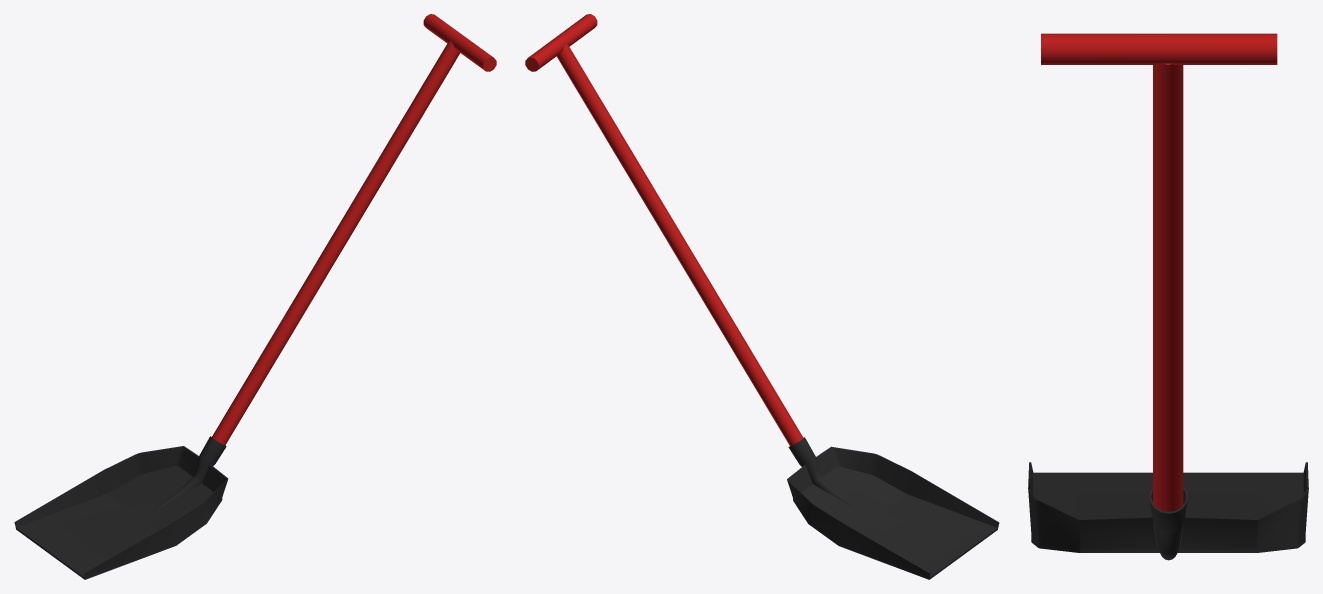
The picture shows the model from 3 angles, left to right: view 1: azimuth 30°, elevation 25°; view 2: azimuth 150°, elevation 25°; view 3: azimuth 270°, elevation 25°; orthographic projection. The views are drawn at different scales.
Parts seen in each view (by area): view 1: Spoon_4, Handle_0, Connection_2; view 2: Spoon_4, Handle_0, Connection_2; view 3: Handle_0, Spoon_4, Connection_2.
Part boxes in pixels (bbox=[...]): Spoon_4: bbox=[14, 446, 228, 579]; Handle_0: bbox=[211, 14, 496, 445]; Connection_2: bbox=[153, 436, 226, 510]; Spoon_4: bbox=[787, 446, 999, 579]; Handle_0: bbox=[525, 14, 803, 446]; Connection_2: bbox=[788, 437, 860, 510]; Handle_0: bbox=[1041, 33, 1277, 511]; Spoon_4: bbox=[1028, 462, 1308, 552]; Connection_2: bbox=[1149, 486, 1187, 560].
Size of the model in its own units: 0.7666 by 0.7442 by 0.2261.
